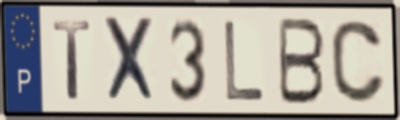3: (166, 16, 208, 104)
B: (277, 15, 328, 107)
C: (328, 18, 389, 106)
L: (221, 18, 267, 103)
T: (50, 17, 94, 102)
X: (100, 15, 161, 106)
